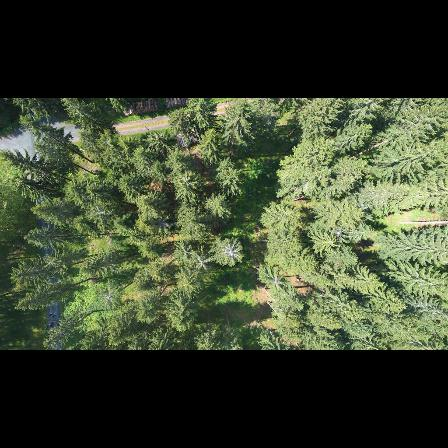Sick: (95, 283, 126, 310), (217, 237, 242, 267), (87, 198, 112, 225), (328, 221, 350, 246), (190, 254, 214, 276), (41, 249, 63, 273), (264, 271, 285, 296)
